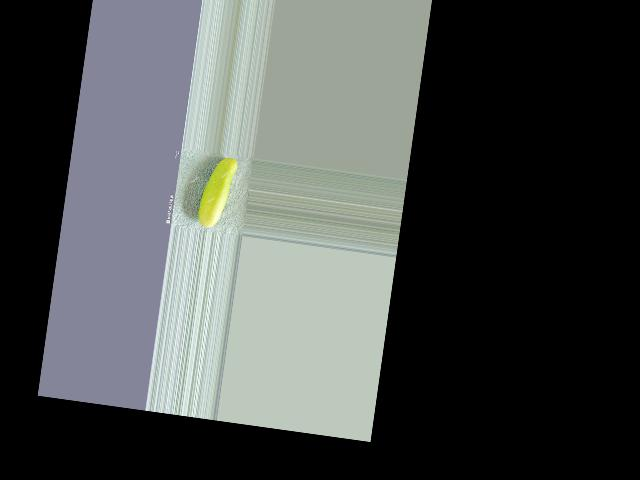cucumber: (196, 153, 238, 230)
